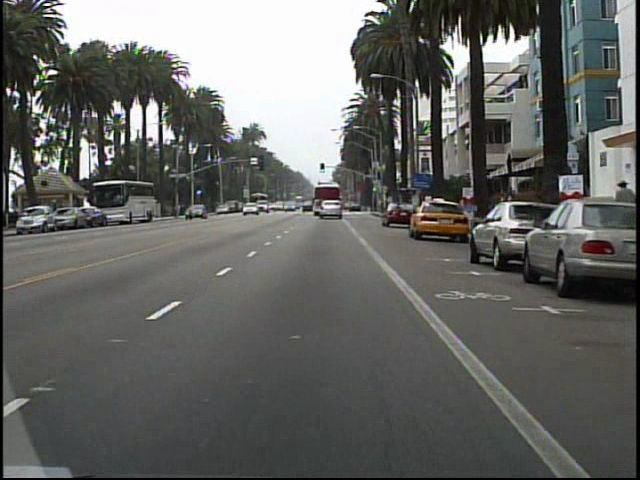person: (608, 173, 636, 243)
